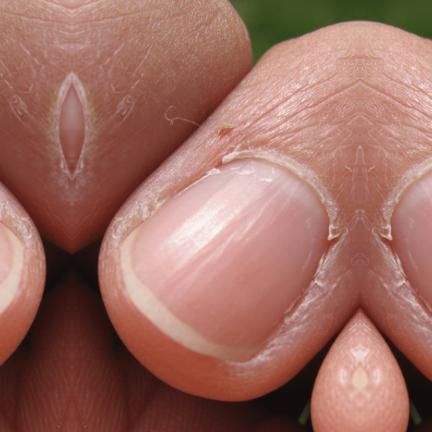Nail: (119, 158, 330, 363), (390, 169, 432, 317), (0, 223, 23, 314)
